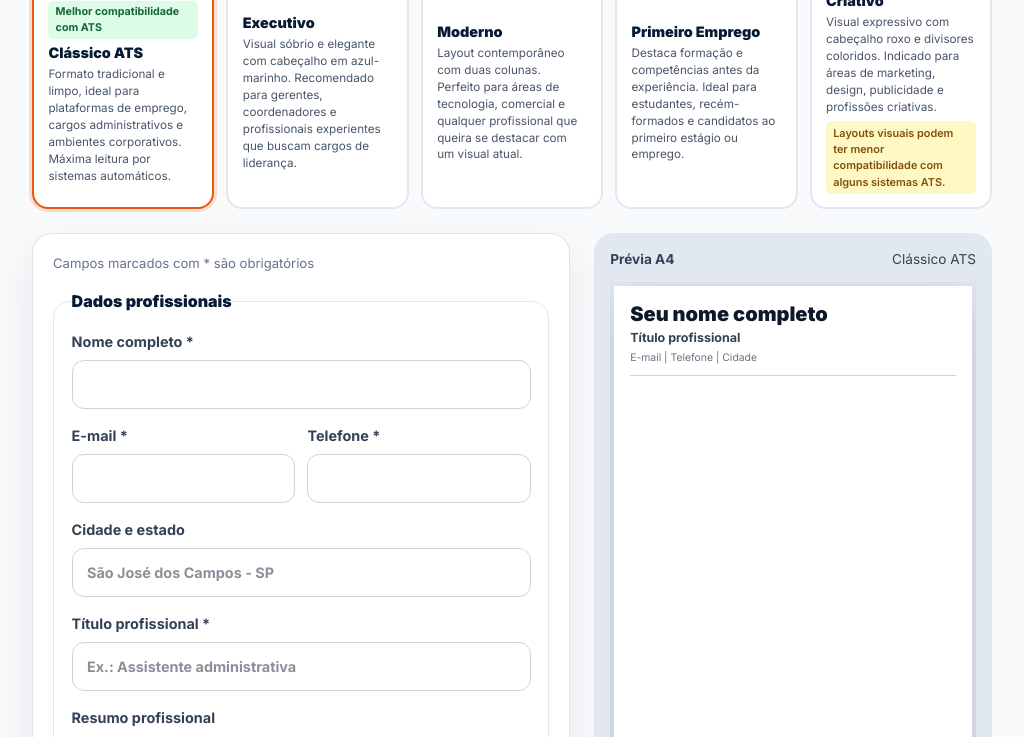
Test: ResumeBuilderTool › shows "Currículo pronto para gerar" when all required fields are filled
(page scrolled)
Type "Ana Silva" into the field labelled "Nome completo *" at [301, 384], box x1=72 y1=360 x2=531 y2=409
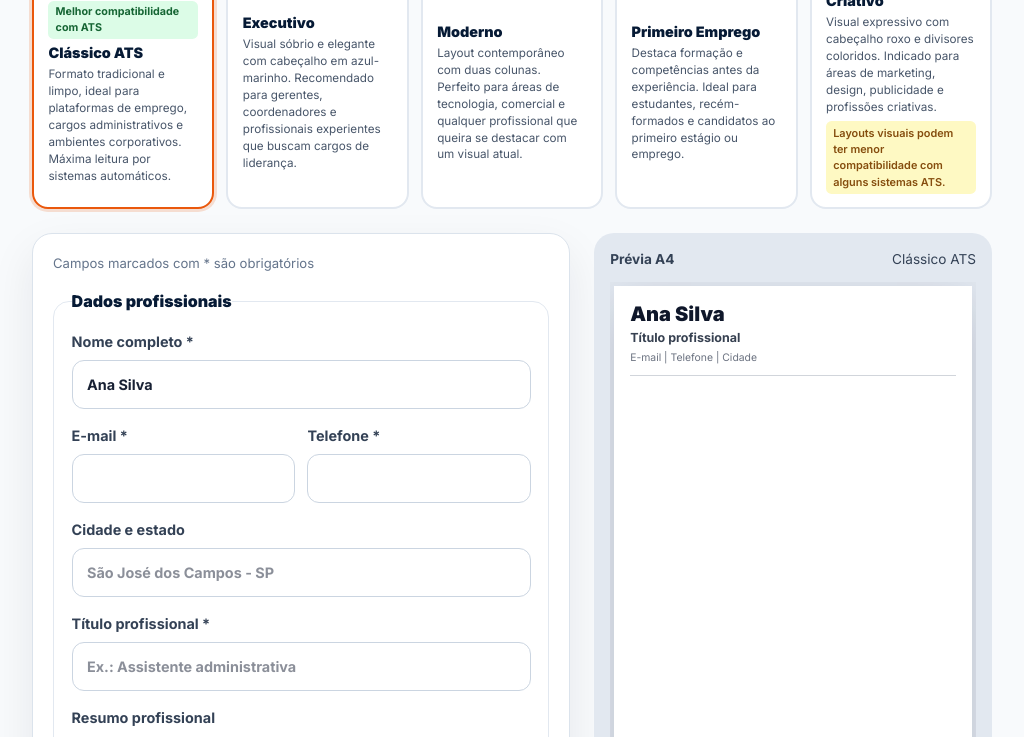
Type "ana@example.com" into the field labelled "E-mail *" at [183, 478], box x1=72 y1=454 x2=295 y2=503
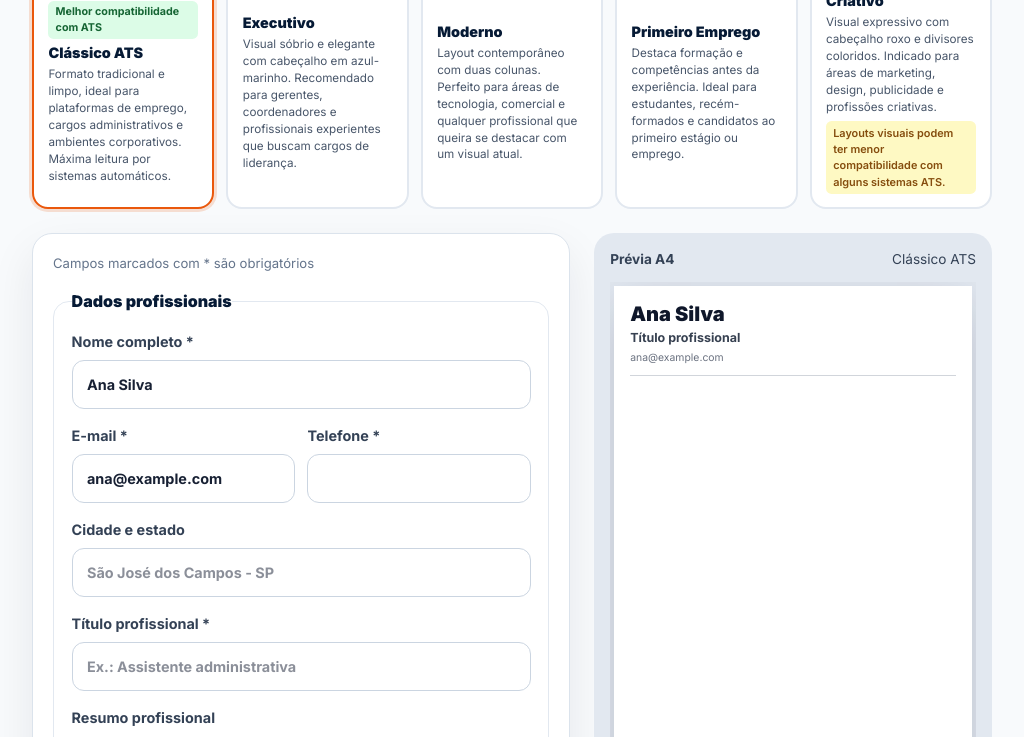
Type "(12) 99999-9999" into the field labelled "Telefone *" at [419, 478], box x1=308 y1=454 x2=531 y2=503
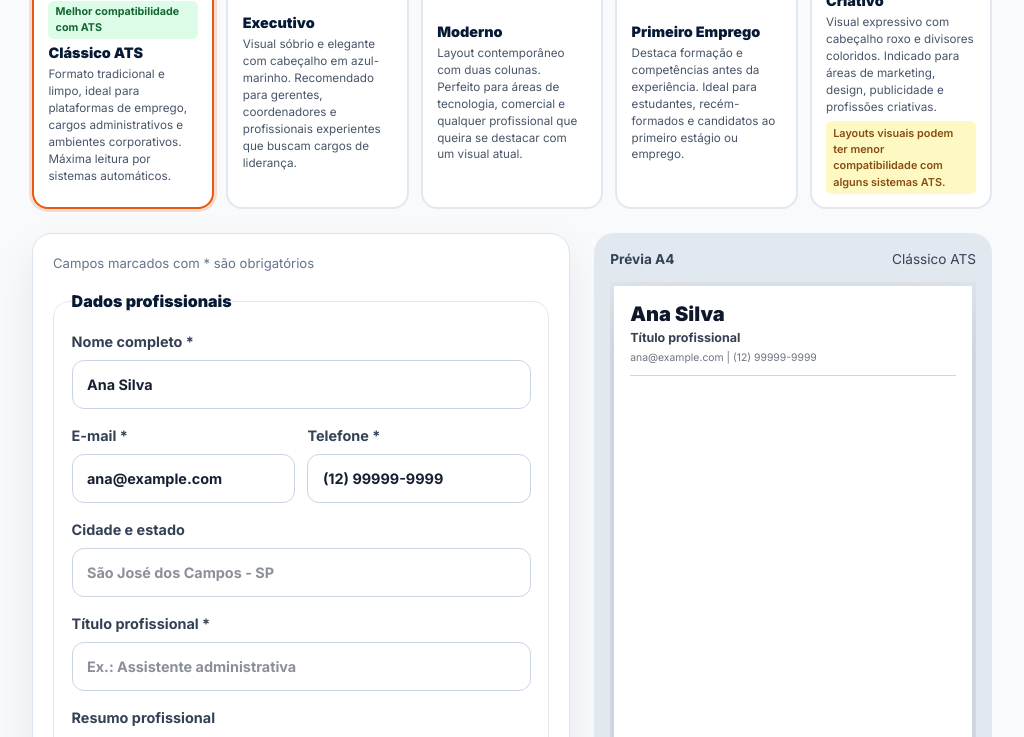
Type "Assistente administrativa" into the field labelled "Título profissional *" at [301, 666], box x1=72 y1=642 x2=531 y2=691
(page scrolled)
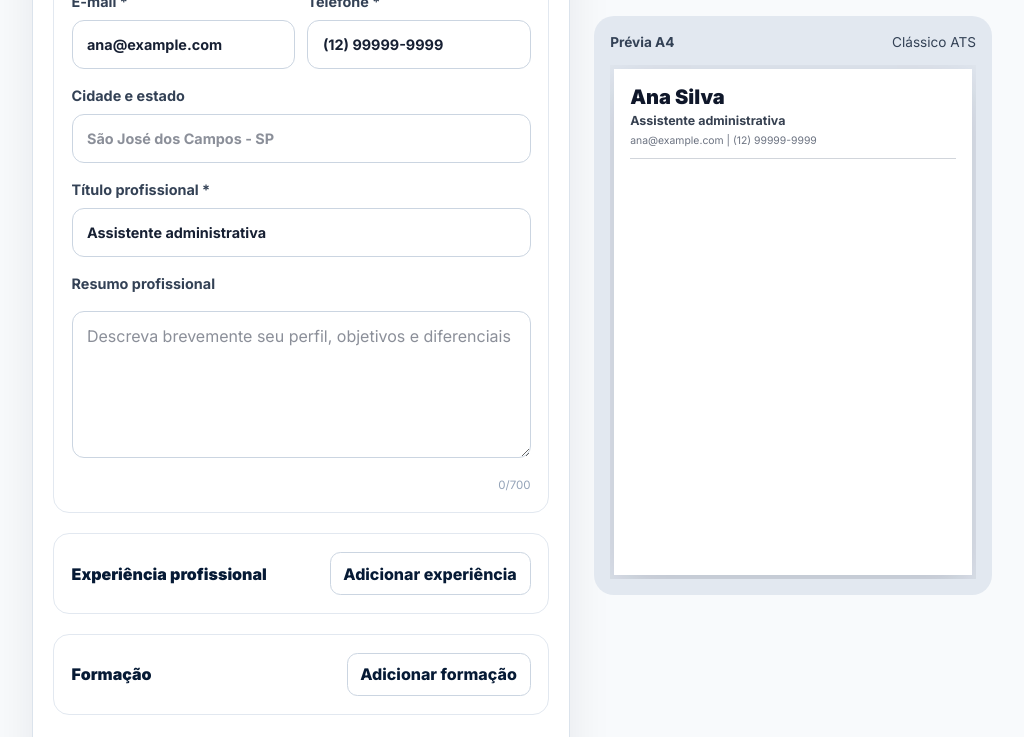
Type "Profissional organizada e focada em atendimento." into the text box labelled "Resumo profissional" at [301, 384], box x1=72 y1=310 x2=531 y2=458
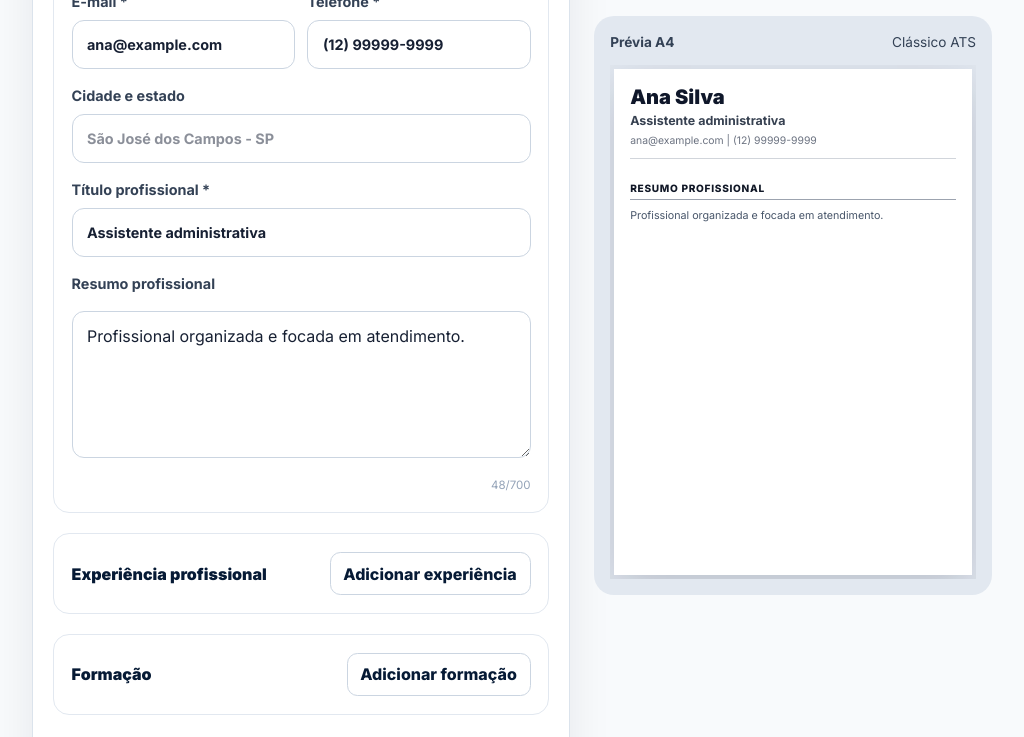
Click the button "Adicionar experiência" at [430, 574], box x1=330 y1=552 x2=530 y2=595
(page scrolled)
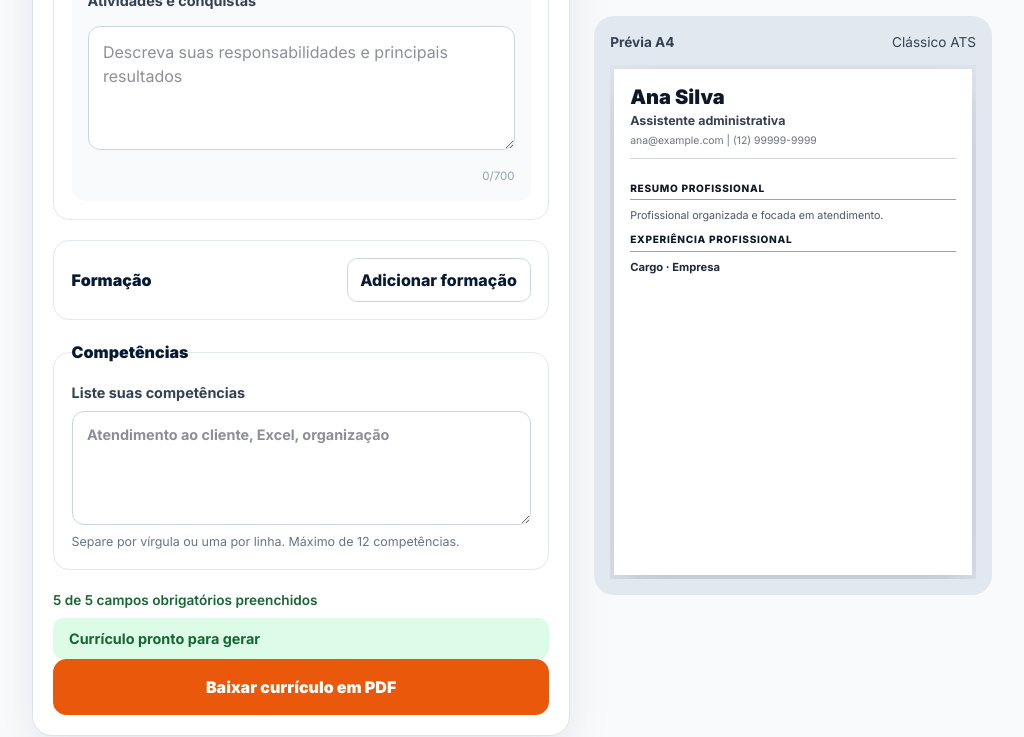
Expected: the text "Currículo pronto para gerar" is shown, x1=53 y1=618 x2=549 y2=659
